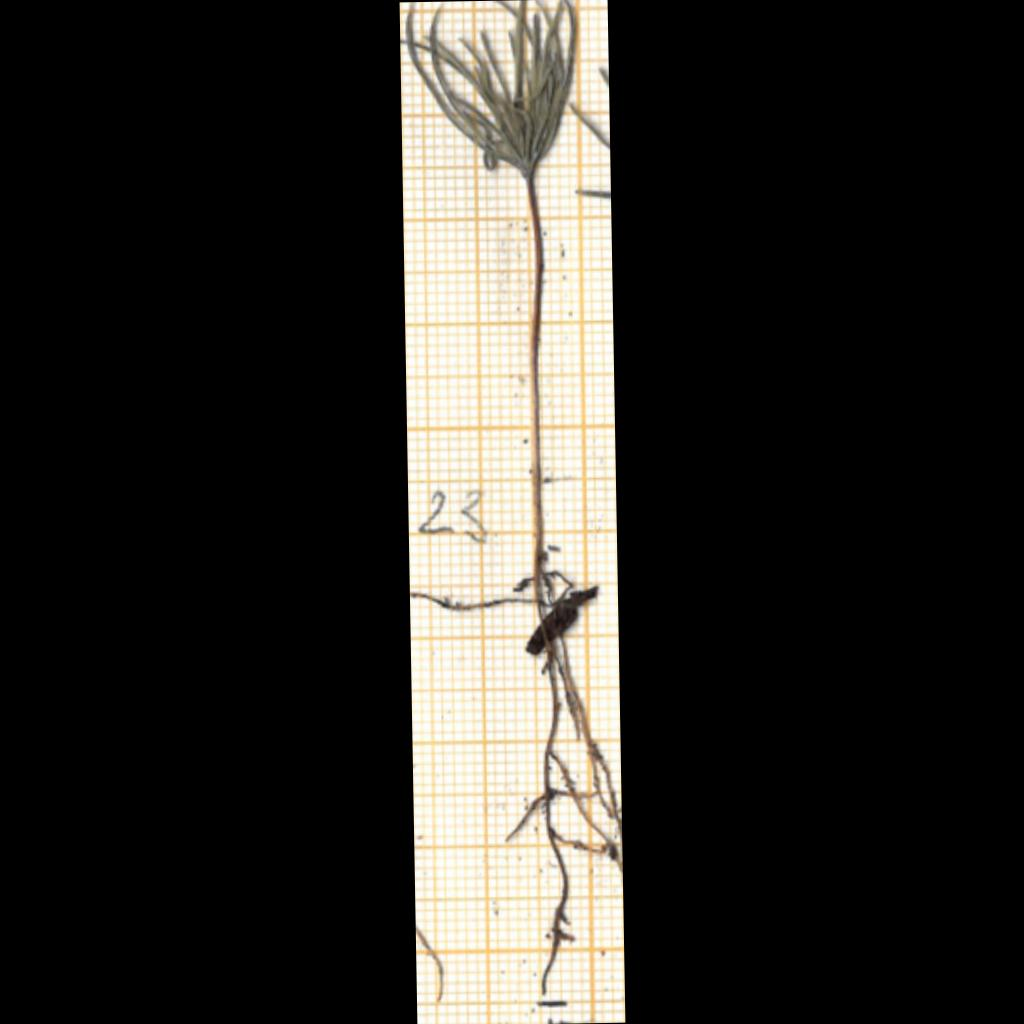flowerPinus: (406, 0, 574, 177)
rootPinus: (410, 553, 622, 994)
stemPinus: (529, 174, 543, 545)
